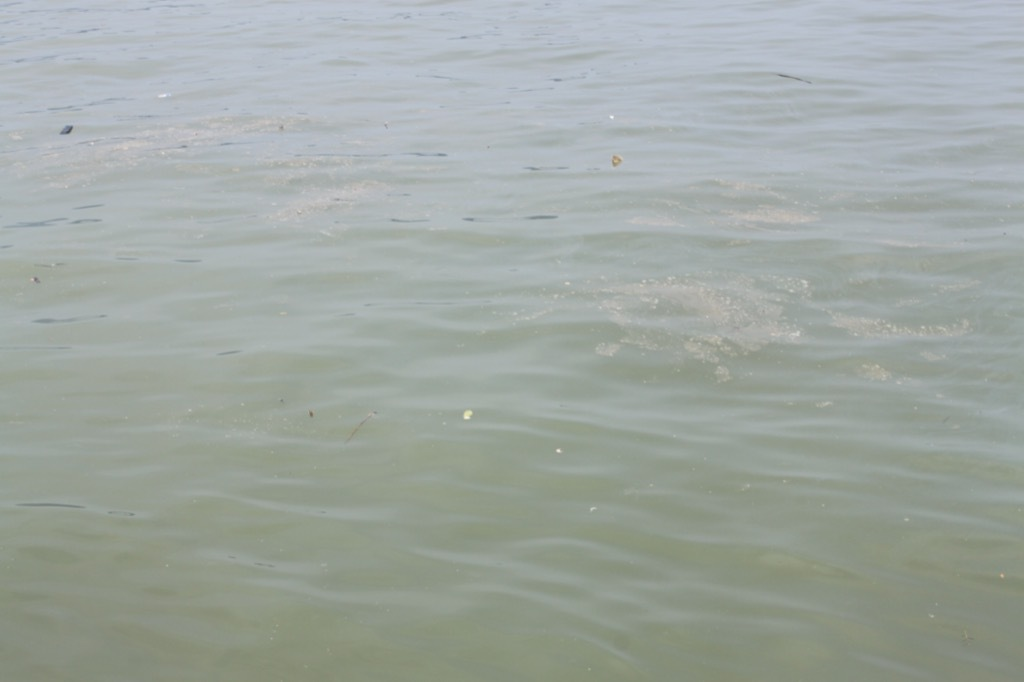organic: (338, 403, 389, 451), (768, 64, 822, 95), (302, 403, 324, 434), (274, 387, 291, 413)
plastic: (450, 399, 485, 436), (142, 81, 179, 109), (604, 146, 634, 178), (1, 121, 31, 151), (19, 266, 48, 296), (582, 496, 611, 525), (547, 440, 571, 464), (58, 114, 76, 144)
